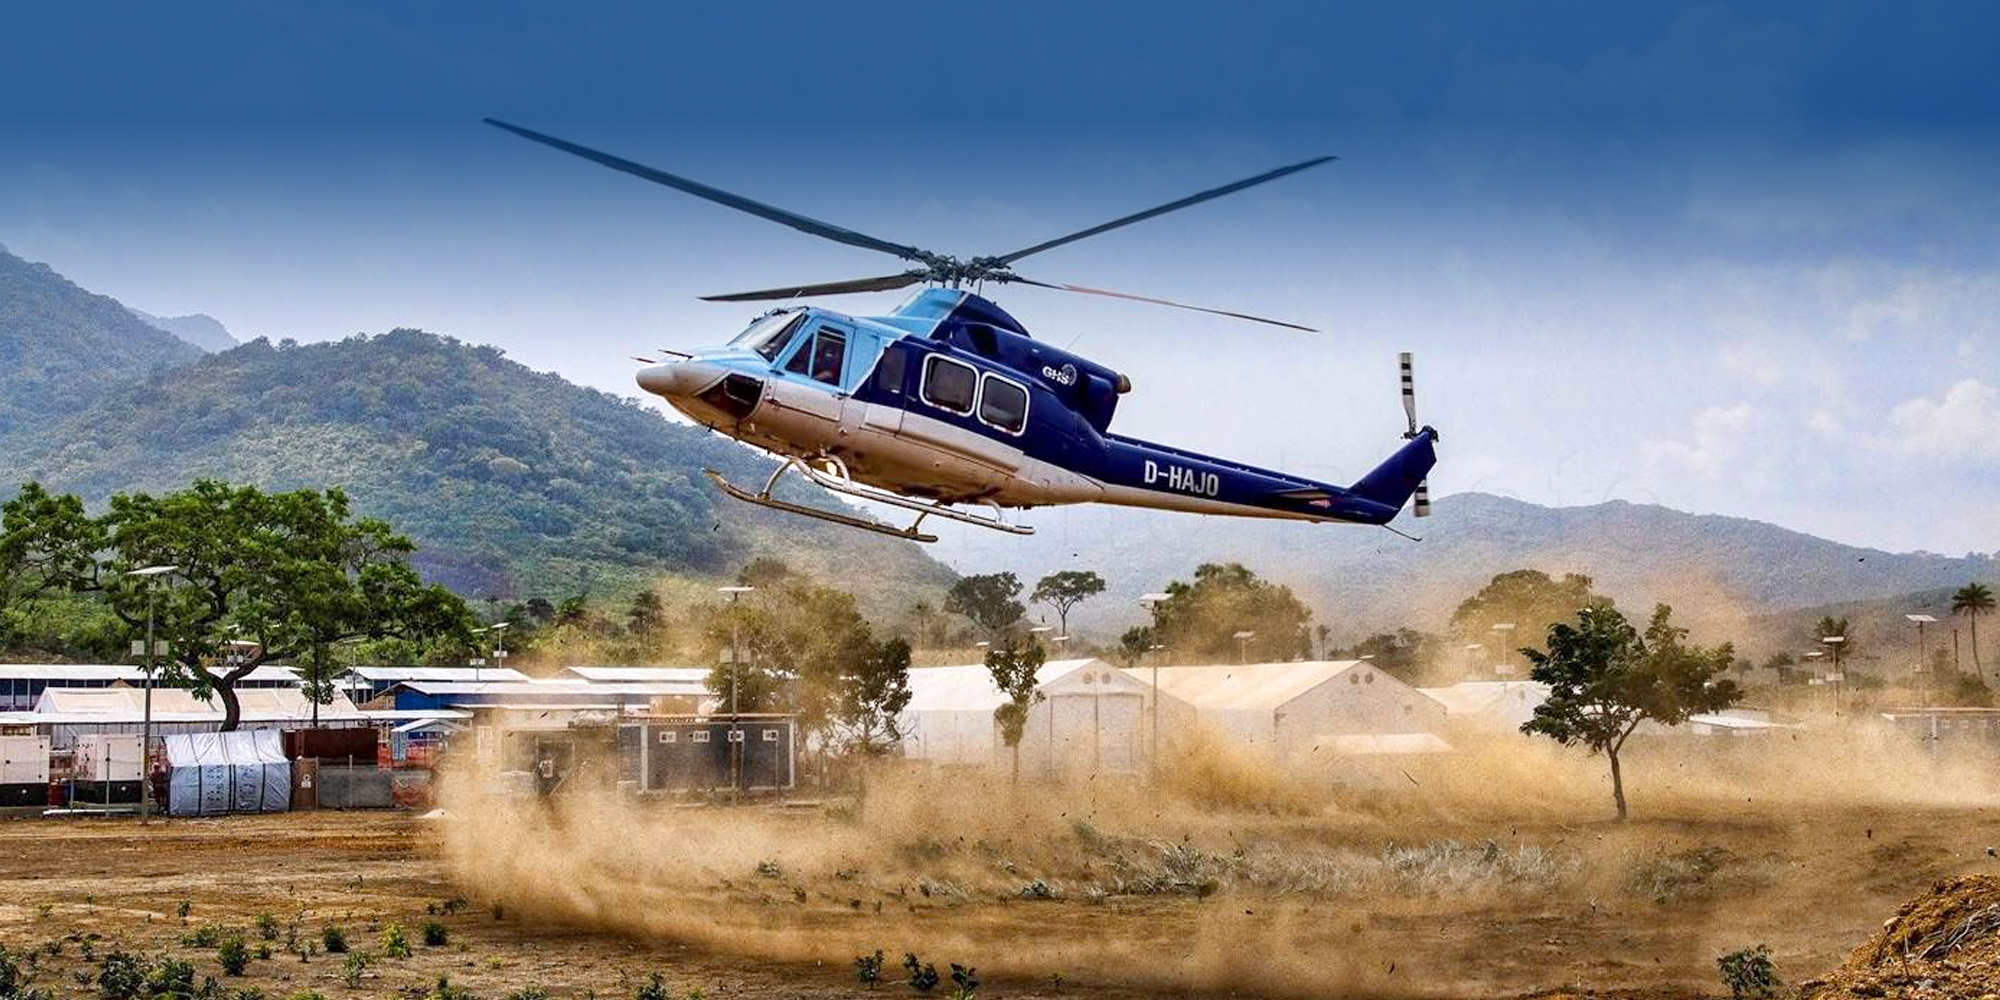Helicopter: (478, 103, 1503, 564)
